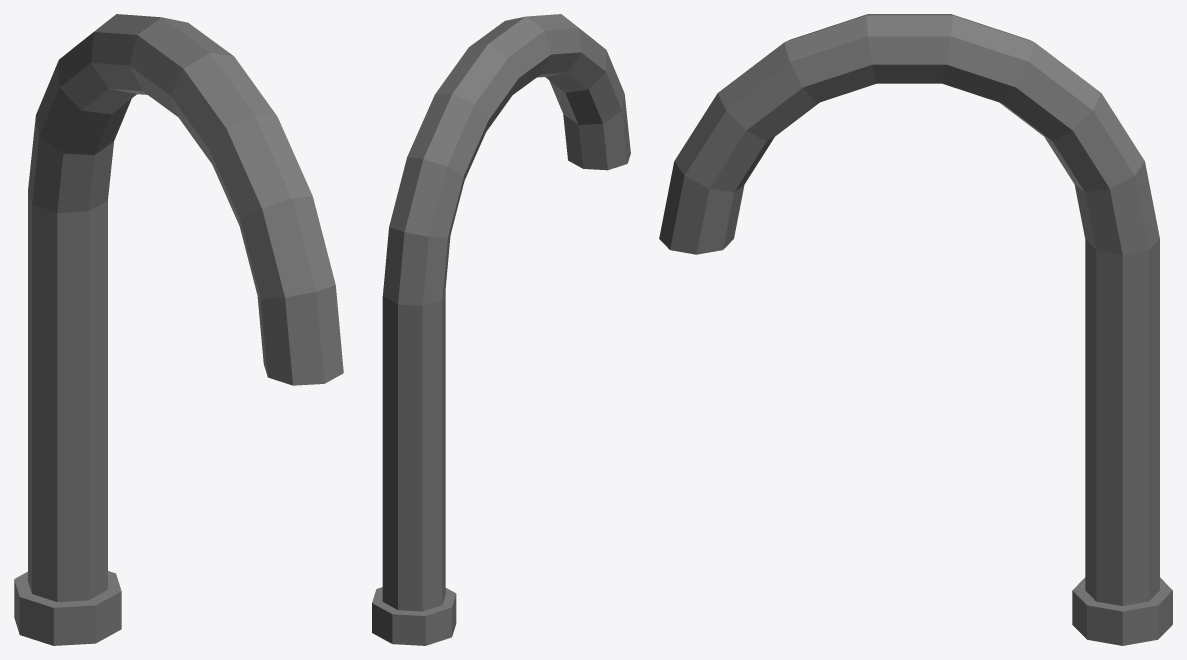
The model's file is Plumbing1_C2_01.fbx.
The picture shows the model from 3 angles, left to right: view 1: azimuth 30°, elevation 25°; view 2: azimuth 150°, elevation 25°; view 3: azimuth 270°, elevation 25°; orthographic projection. The views are drawn at different scales.
Parts seen in each view (by area): view 1: Plumbing1_C2_01; view 2: Plumbing1_C2_01; view 3: Plumbing1_C2_01.
Boxes of the visible parts, x1,y1,x2,y2 form: Plumbing1_C2_01: (14, 14, 343, 645); Plumbing1_C2_01: (372, 14, 630, 645); Plumbing1_C2_01: (659, 14, 1172, 645).
Bounding box in the file's own units: 2.63 × 17.59 × 13.44.
